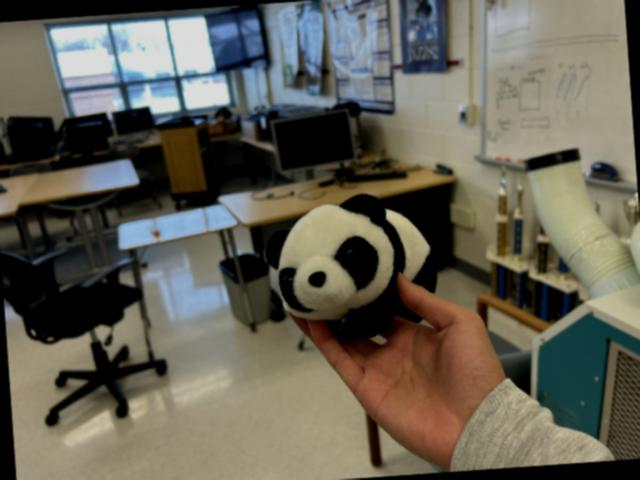panda_plushie: (262, 188, 442, 342)
